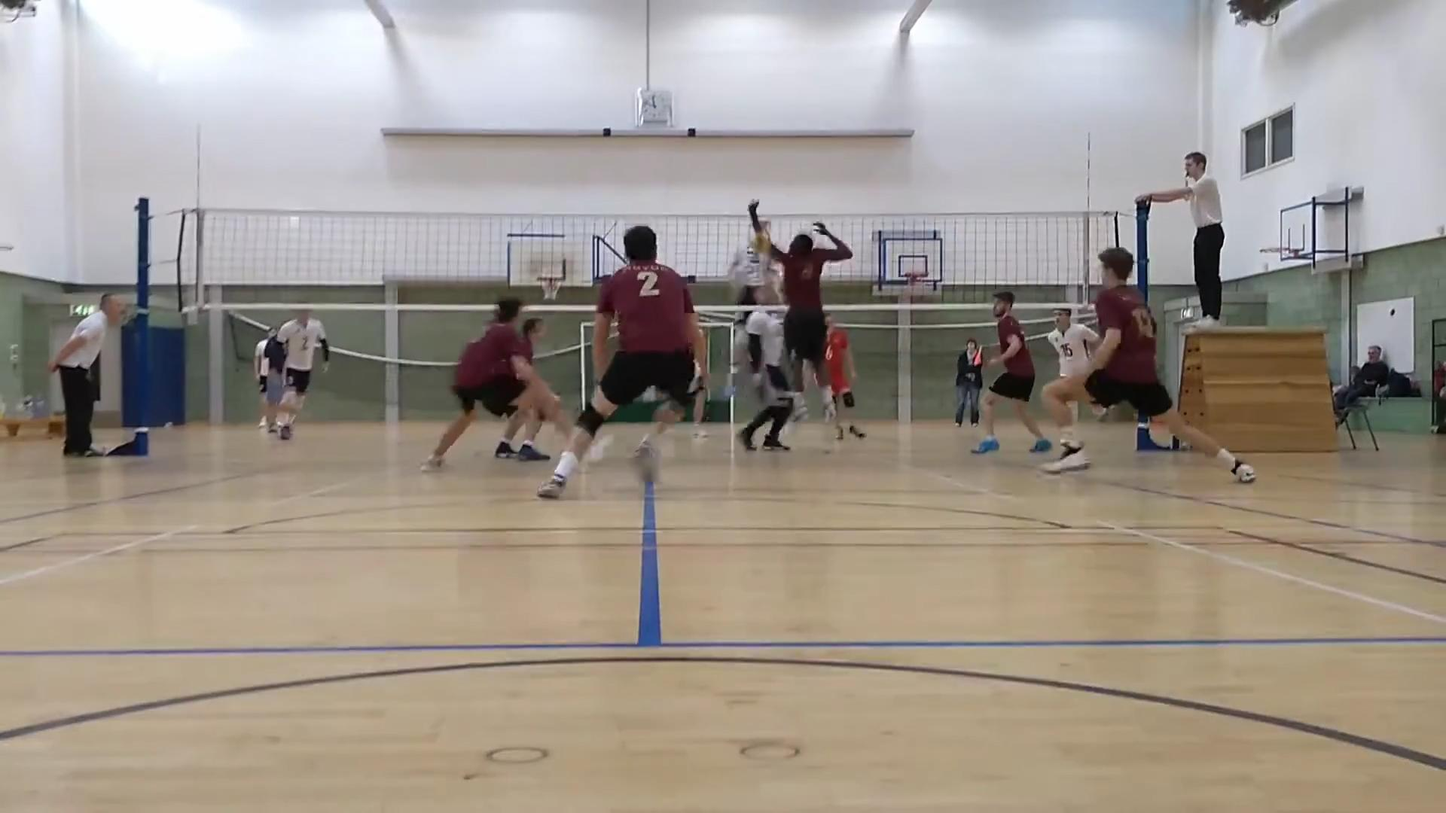Attack: (729, 220, 787, 295)
Block: (755, 198, 858, 443)
Player: (1043, 248, 1255, 483), (538, 226, 706, 498), (423, 298, 570, 470), (973, 291, 1051, 453), (738, 307, 793, 451), (276, 309, 330, 440), (825, 316, 865, 440), (1047, 309, 1099, 376), (494, 409, 550, 461), (690, 360, 707, 439)
